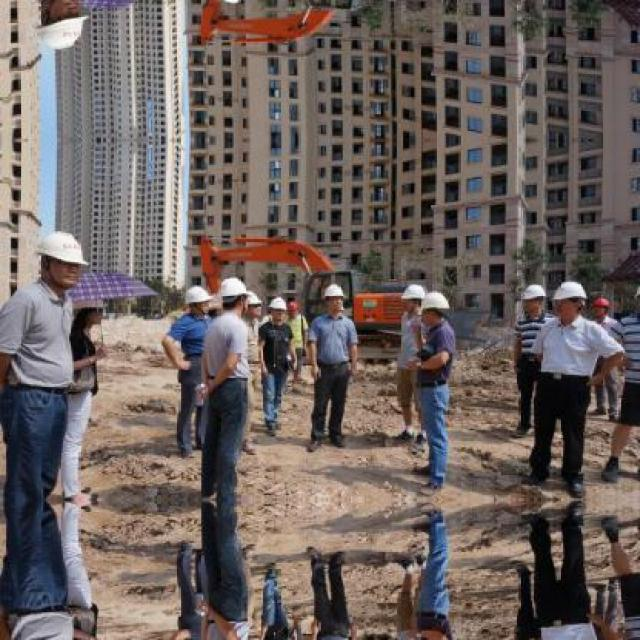helmet: (32, 226, 92, 288), (31, 0, 92, 56), (550, 278, 588, 318), (178, 284, 212, 316), (218, 278, 250, 312), (517, 282, 548, 316), (422, 289, 449, 326), (319, 282, 346, 316), (232, 286, 257, 317), (266, 290, 288, 322), (588, 294, 612, 322), (286, 298, 305, 318)
